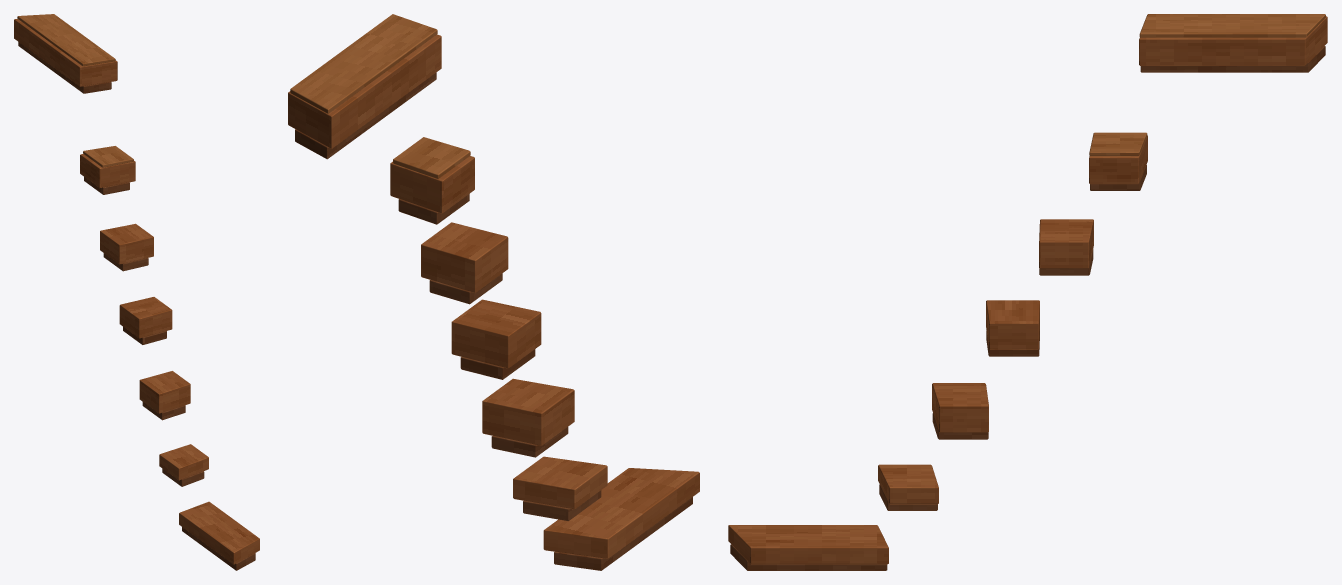
The model's file is Coping-6.glb.
The picture shows the model from 3 angles, left to right: view 1: azimuth 30°, elevation 25°; view 2: azimuth 150°, elevation 25°; view 3: azimuth 270°, elevation 25°; orthographic projection. The views are drawn at different scales.
Parts seen in each view (by area): view 1: Coping-6; view 2: Coping-6; view 3: Coping-6.
Part boxes in pixels (left/top/right/bottom): Coping-6: left=14, top=14, right=259, bottom=570; Coping-6: left=288, top=14, right=699, bottom=570; Coping-6: left=728, top=14, right=1327, bottom=570.
Bounding box in the file's own units: 0.306 × 3.33 × 3.35.
Materials: 3 (3 with a texture image).
